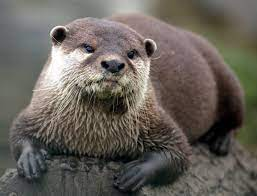otter: (8, 9, 249, 196)
